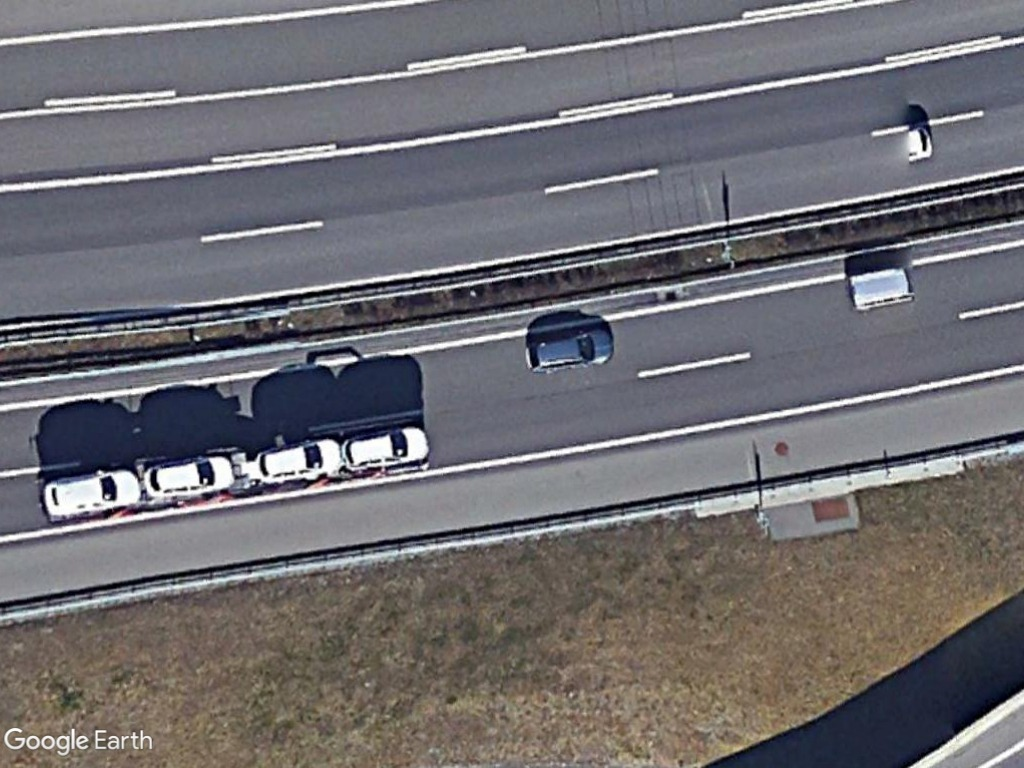car: (42, 461, 145, 522), (142, 451, 237, 503), (339, 424, 431, 475), (521, 329, 619, 374), (255, 433, 343, 483)
